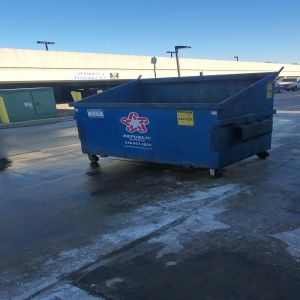Dumpster: (69, 70, 280, 180)
